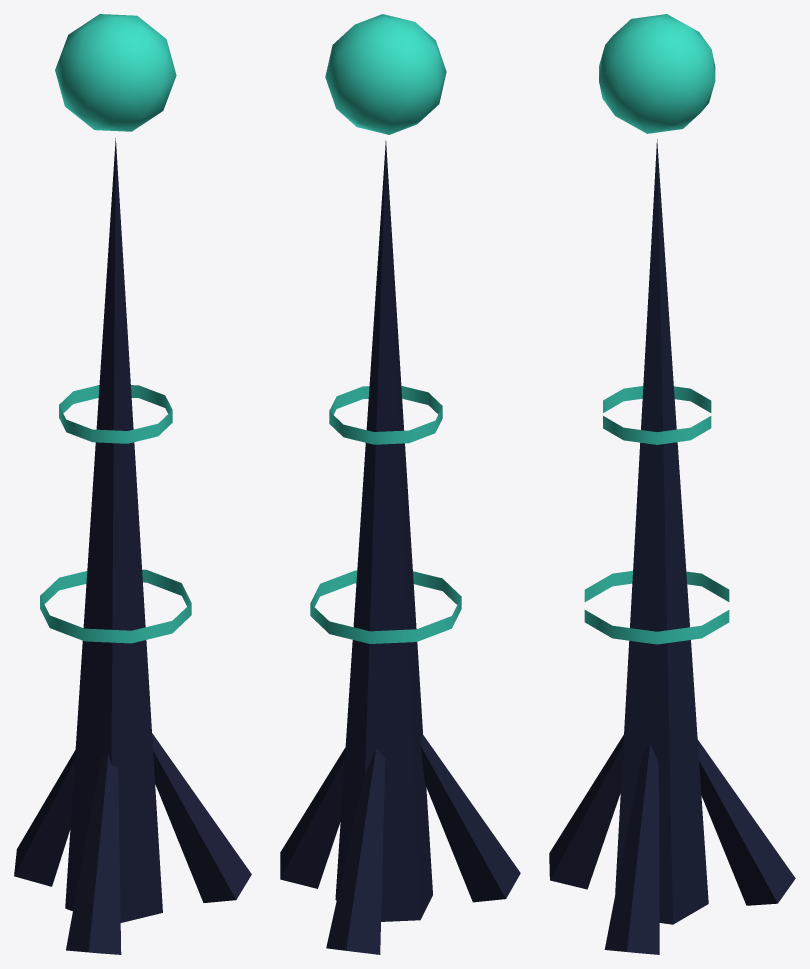
The model's file is MODULE_ALIEN_FULL_3_PYLON.fbx.
3 views of the same model, side by side, from view 1: azimuth 30°, elevation 25°; view 2: azimuth 150°, elevation 25°; view 3: azimuth 270°, elevation 25° (orthographic).
Parts seen in each view (by area): view 1: MODULE_ALIEN_FULL_3_PYLON_DECOR__export; view 2: MODULE_ALIEN_FULL_3_PYLON_DECOR__export; view 3: MODULE_ALIEN_FULL_3_PYLON_DECOR__export.
Part boxes in pixels (left/top/right/bottom): MODULE_ALIEN_FULL_3_PYLON_DECOR__export: left=14, top=14, right=251, bottom=954; MODULE_ALIEN_FULL_3_PYLON_DECOR__export: left=280, top=14, right=520, bottom=954; MODULE_ALIEN_FULL_3_PYLON_DECOR__export: left=549, top=14, right=795, bottom=954.
Size of what is drawn, in the model's own units: 10.12 by 42.12 by 10.5.
